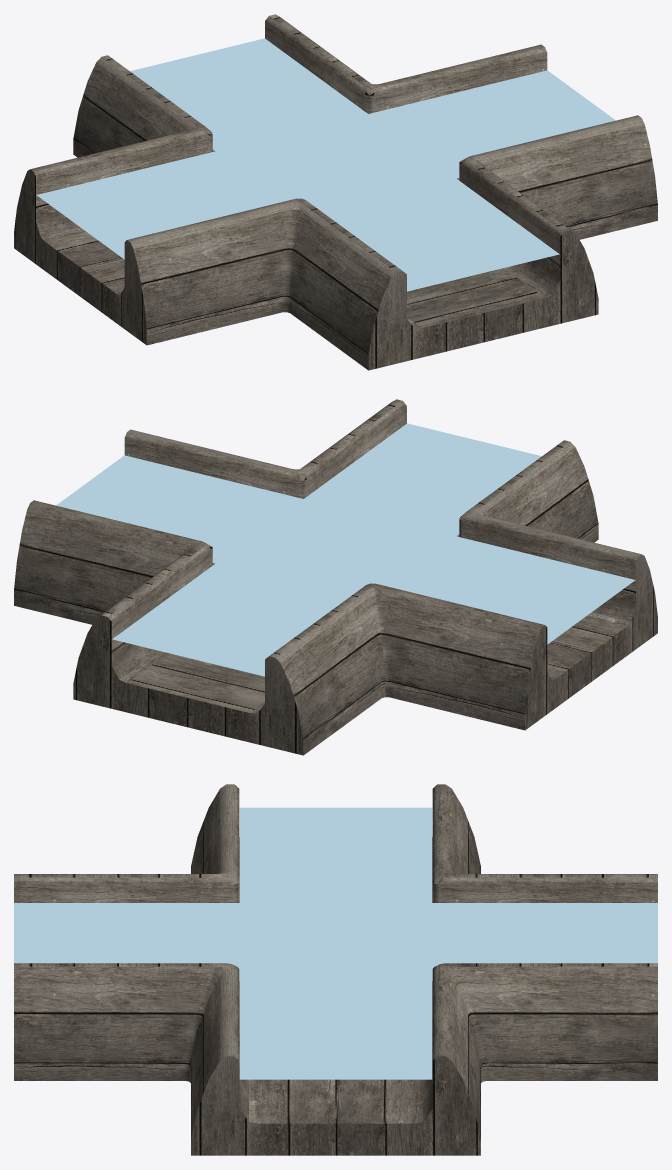
Rendered from cross.glb.
3 views of the same model, one above another, from view 1: azimuth 30°, elevation 25°; view 2: azimuth 150°, elevation 25°; view 3: azimuth 270°, elevation 25° (orthographic). The views are drawn at different scales.
Visible parts, largest first — view 1: Channel, Water; view 2: Channel, Water; view 3: Channel, Water.
Part boxes in pixels (x1,y1,x2,y2): Channel: [14, 14, 657, 370]; Water: [36, 38, 615, 291]; Channel: [14, 399, 657, 755]; Water: [56, 423, 635, 676]; Channel: [14, 784, 657, 1155]; Water: [14, 807, 657, 1079].
Bounding box in the file's own units: 2 × 0.34 × 2.
Materials: 2 (1 with a texture image).
